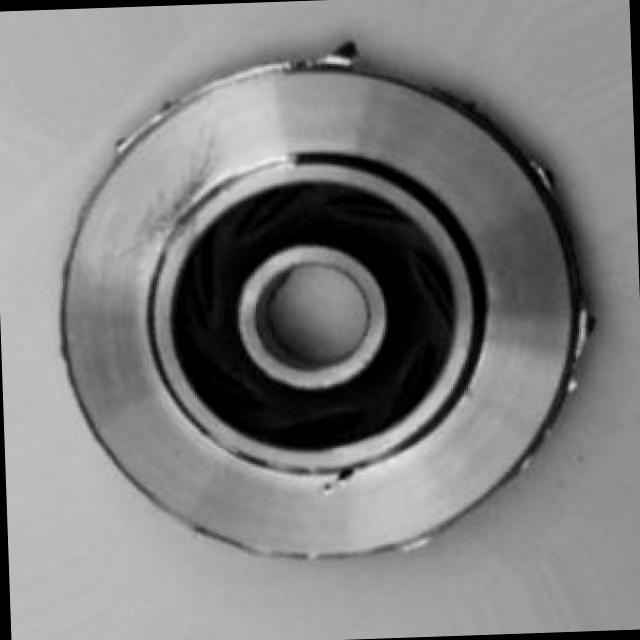Defect: (314, 40, 354, 71)
